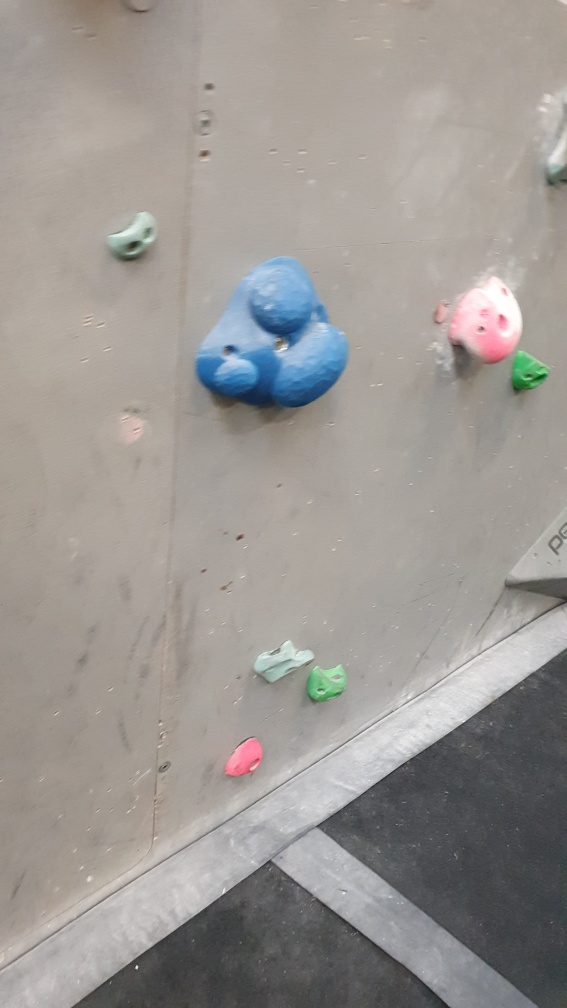Sloper: (192, 254, 351, 414)
